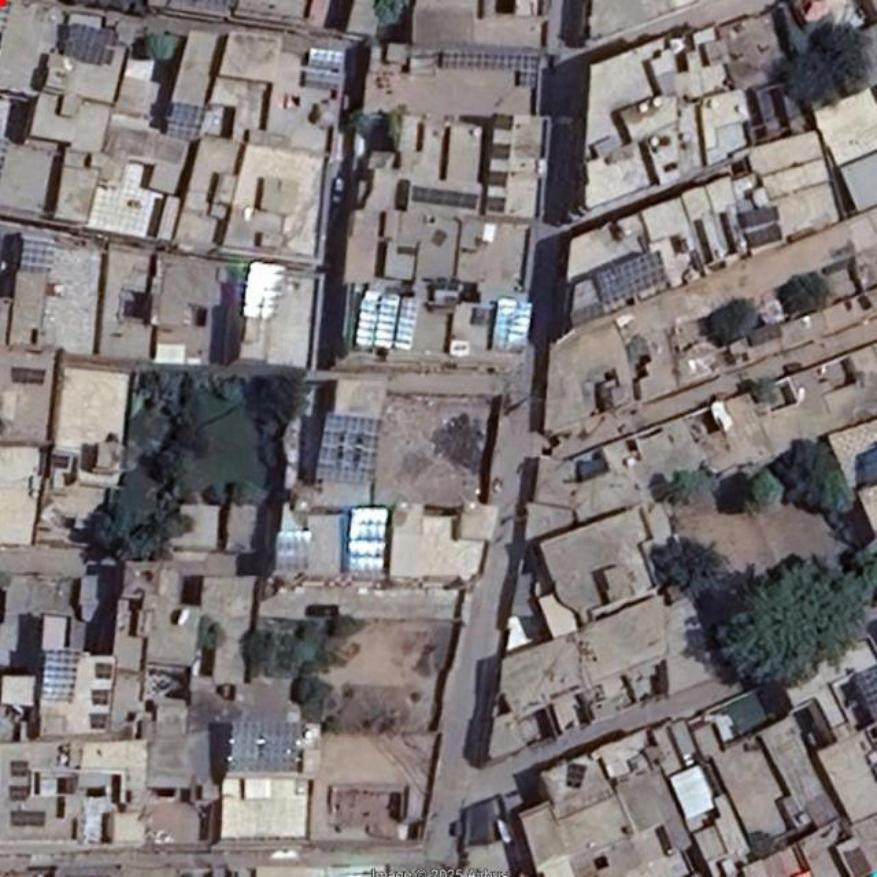Solarpanel: (315, 414, 383, 482), (355, 291, 421, 351), (594, 249, 663, 306), (228, 722, 305, 773), (437, 48, 539, 85), (348, 506, 390, 571), (243, 263, 289, 320), (60, 22, 113, 66), (491, 295, 535, 345), (38, 649, 76, 702), (413, 185, 478, 208), (164, 106, 205, 140), (20, 239, 53, 274), (567, 766, 587, 790)
